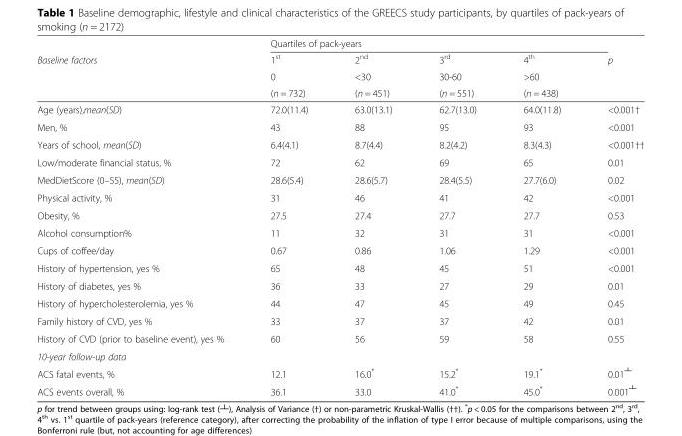table: (36, 37, 643, 397)
table column: (36, 37, 246, 397), (330, 37, 415, 397), (246, 37, 330, 397), (415, 37, 499, 397), (499, 37, 583, 397), (583, 37, 643, 397)
table column header: (36, 37, 643, 100)
table projected row header: (36, 347, 643, 364)
table row: (36, 100, 643, 118), (36, 135, 643, 153), (36, 170, 643, 188), (36, 188, 643, 206), (36, 223, 643, 241), (36, 241, 643, 259), (36, 276, 643, 294), (36, 294, 643, 312), (36, 329, 643, 347), (36, 50, 643, 67), (36, 67, 643, 84), (36, 118, 643, 135), (36, 153, 643, 170), (36, 206, 643, 223), (36, 259, 643, 276), (36, 312, 643, 329), (36, 347, 643, 364), (36, 364, 643, 381), (36, 84, 643, 100), (36, 381, 643, 397), (36, 37, 643, 50)
table spanning cell: (36, 37, 246, 100), (246, 37, 583, 50), (330, 50, 415, 100), (246, 50, 330, 100), (415, 50, 499, 100), (499, 50, 583, 100), (583, 37, 643, 100)
